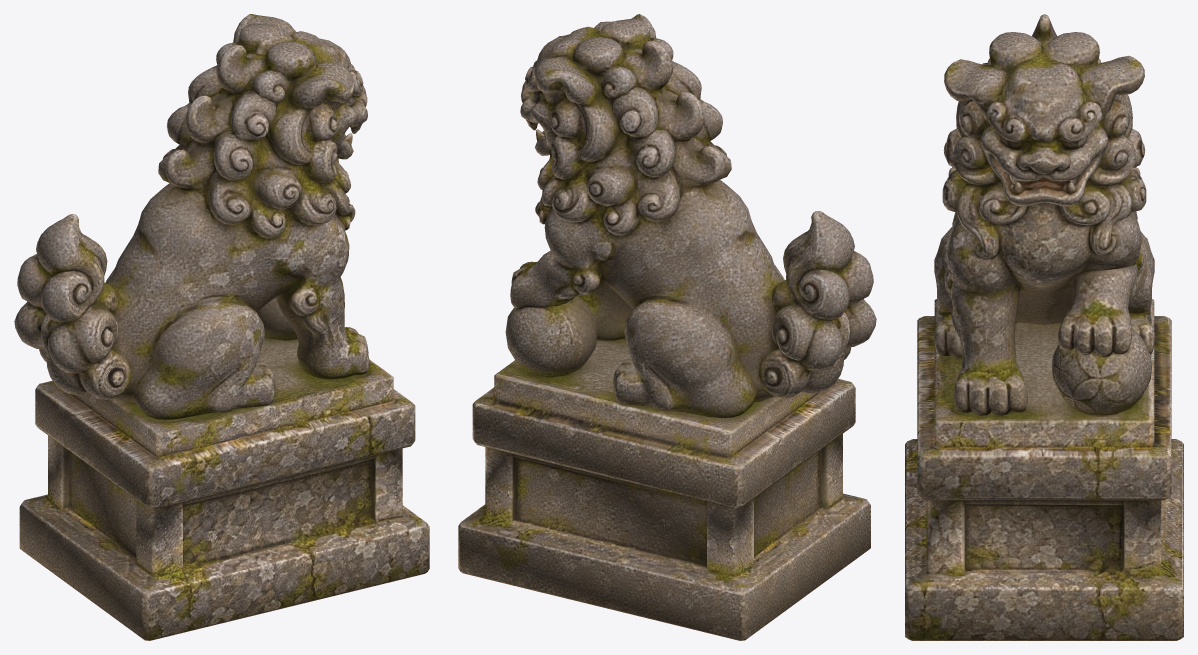
File: komainu.glb
3 renders of one model, left to right at view 1: azimuth 30°, elevation 25°; view 2: azimuth 150°, elevation 25°; view 3: azimuth 270°, elevation 25°, orthographic. The views are drawn at different scales.
Visible parts, largest first — view 1: tripo_node_4c488083-ef38-4b54-97df-633bd7bdc84c; view 2: tripo_node_4c488083-ef38-4b54-97df-633bd7bdc84c; view 3: tripo_node_4c488083-ef38-4b54-97df-633bd7bdc84c.
Boxes of the visible parts, left/top/right/bottom form: tripo_node_4c488083-ef38-4b54-97df-633bd7bdc84c: left=14, top=14, right=429, bottom=640; tripo_node_4c488083-ef38-4b54-97df-633bd7bdc84c: left=458, top=14, right=876, bottom=640; tripo_node_4c488083-ef38-4b54-97df-633bd7bdc84c: left=905, top=14, right=1183, bottom=640.
Size of the model in its own units: 0.686 by 0.9995 by 0.4536.
1 material, 1 textured.
